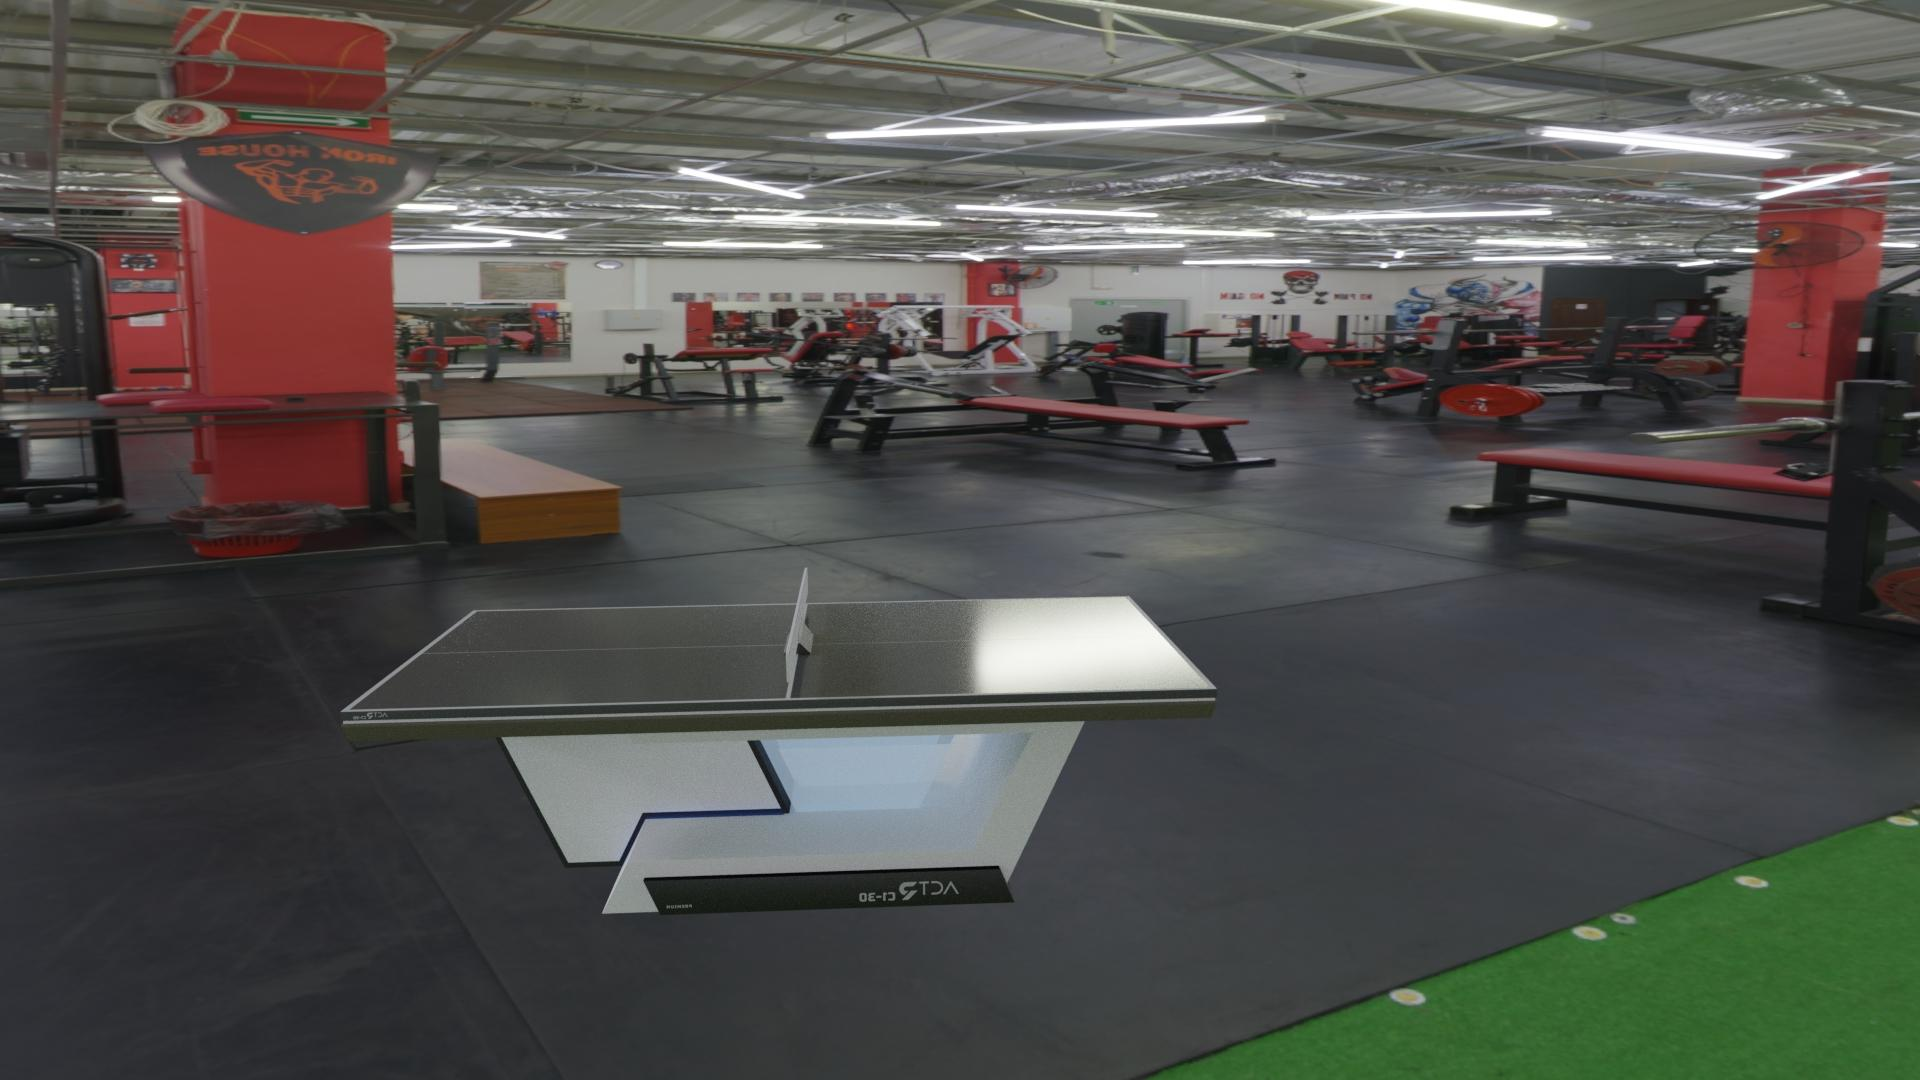table: (349, 597, 1209, 709)
